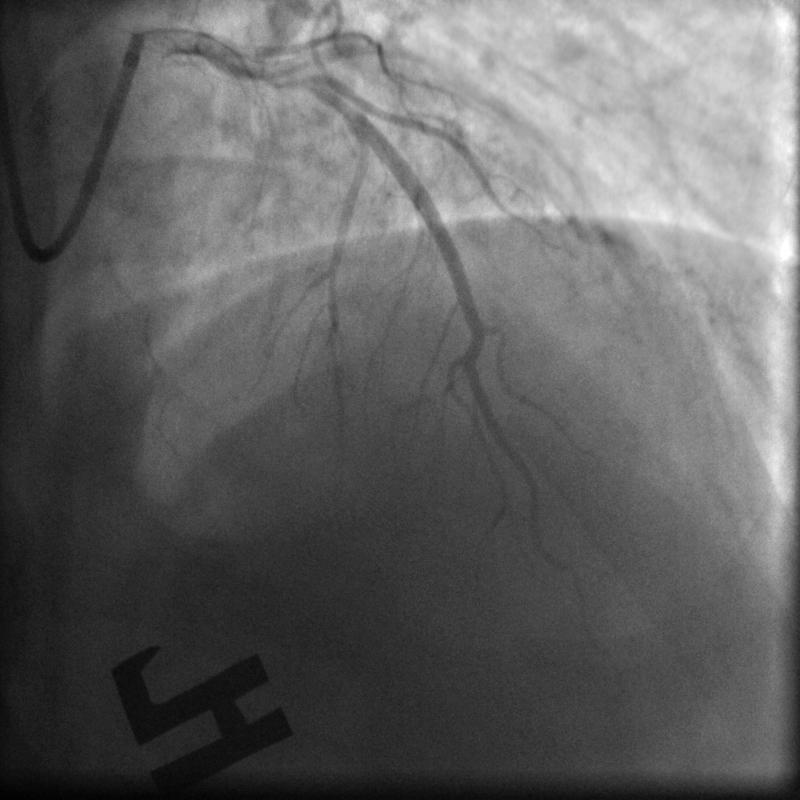Stenosis: (250, 57, 316, 88)
